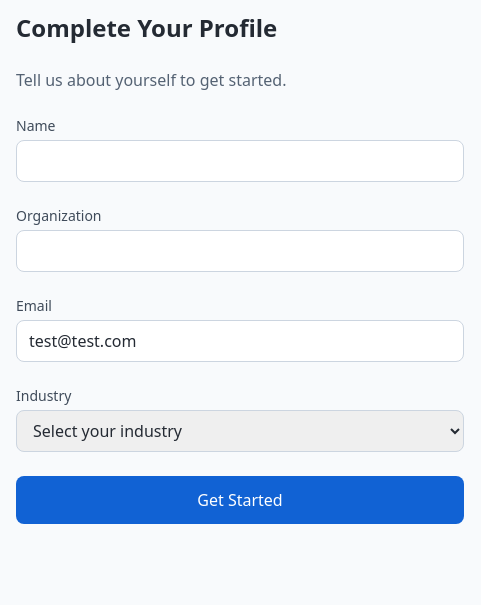
Scenario: GccOnboardingForm › shows a persona conflict message when GCC onboarding is blocked
Type "Priya Sharma" into the field labelled "Name".
click(240, 161); type("Priya Sharma")  # box left=16, top=140, right=464, bottom=182
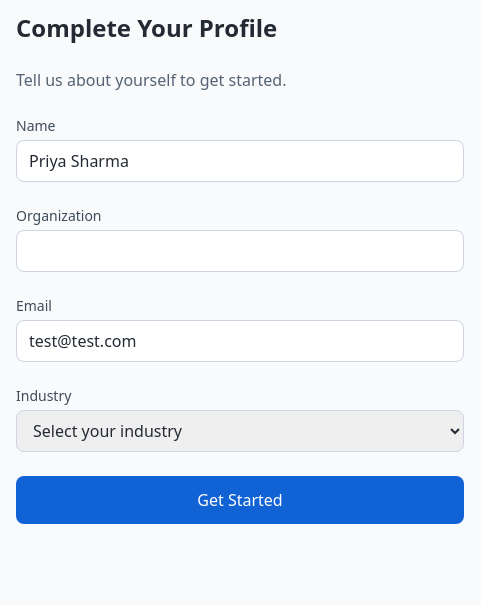
Type "Acme GCC" into the field labelled "Organization".
click(240, 251); type("Acme GCC")  # box left=16, top=230, right=464, bottom=272
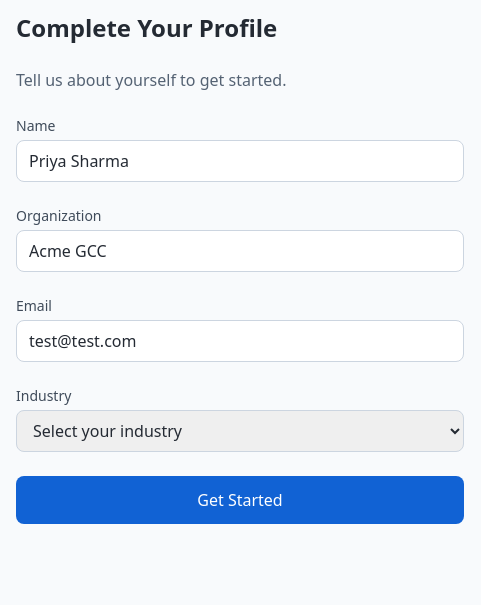
Select "Healthcare & Life Sciences" in the dropdown labelled "Industry" at (240, 431), box left=16, top=410, right=464, bottom=452
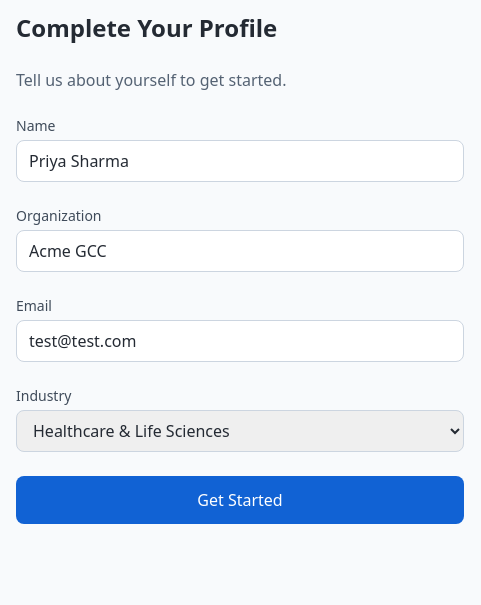
Click the button "Get Started".
click(240, 500)  # box left=16, top=476, right=464, bottom=524
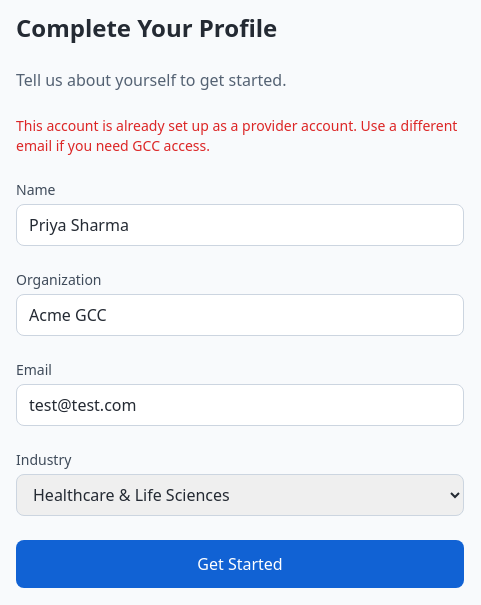
Result: the text "this account is already set up as a provider account. use a different email if you need gcc access." is shown at left=16, top=116, right=457, bottom=155
